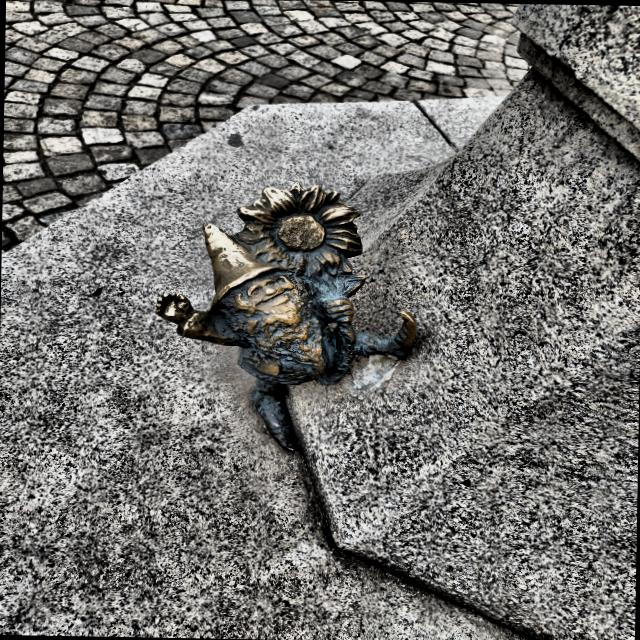Zyczliwek: (157, 183, 417, 450)
